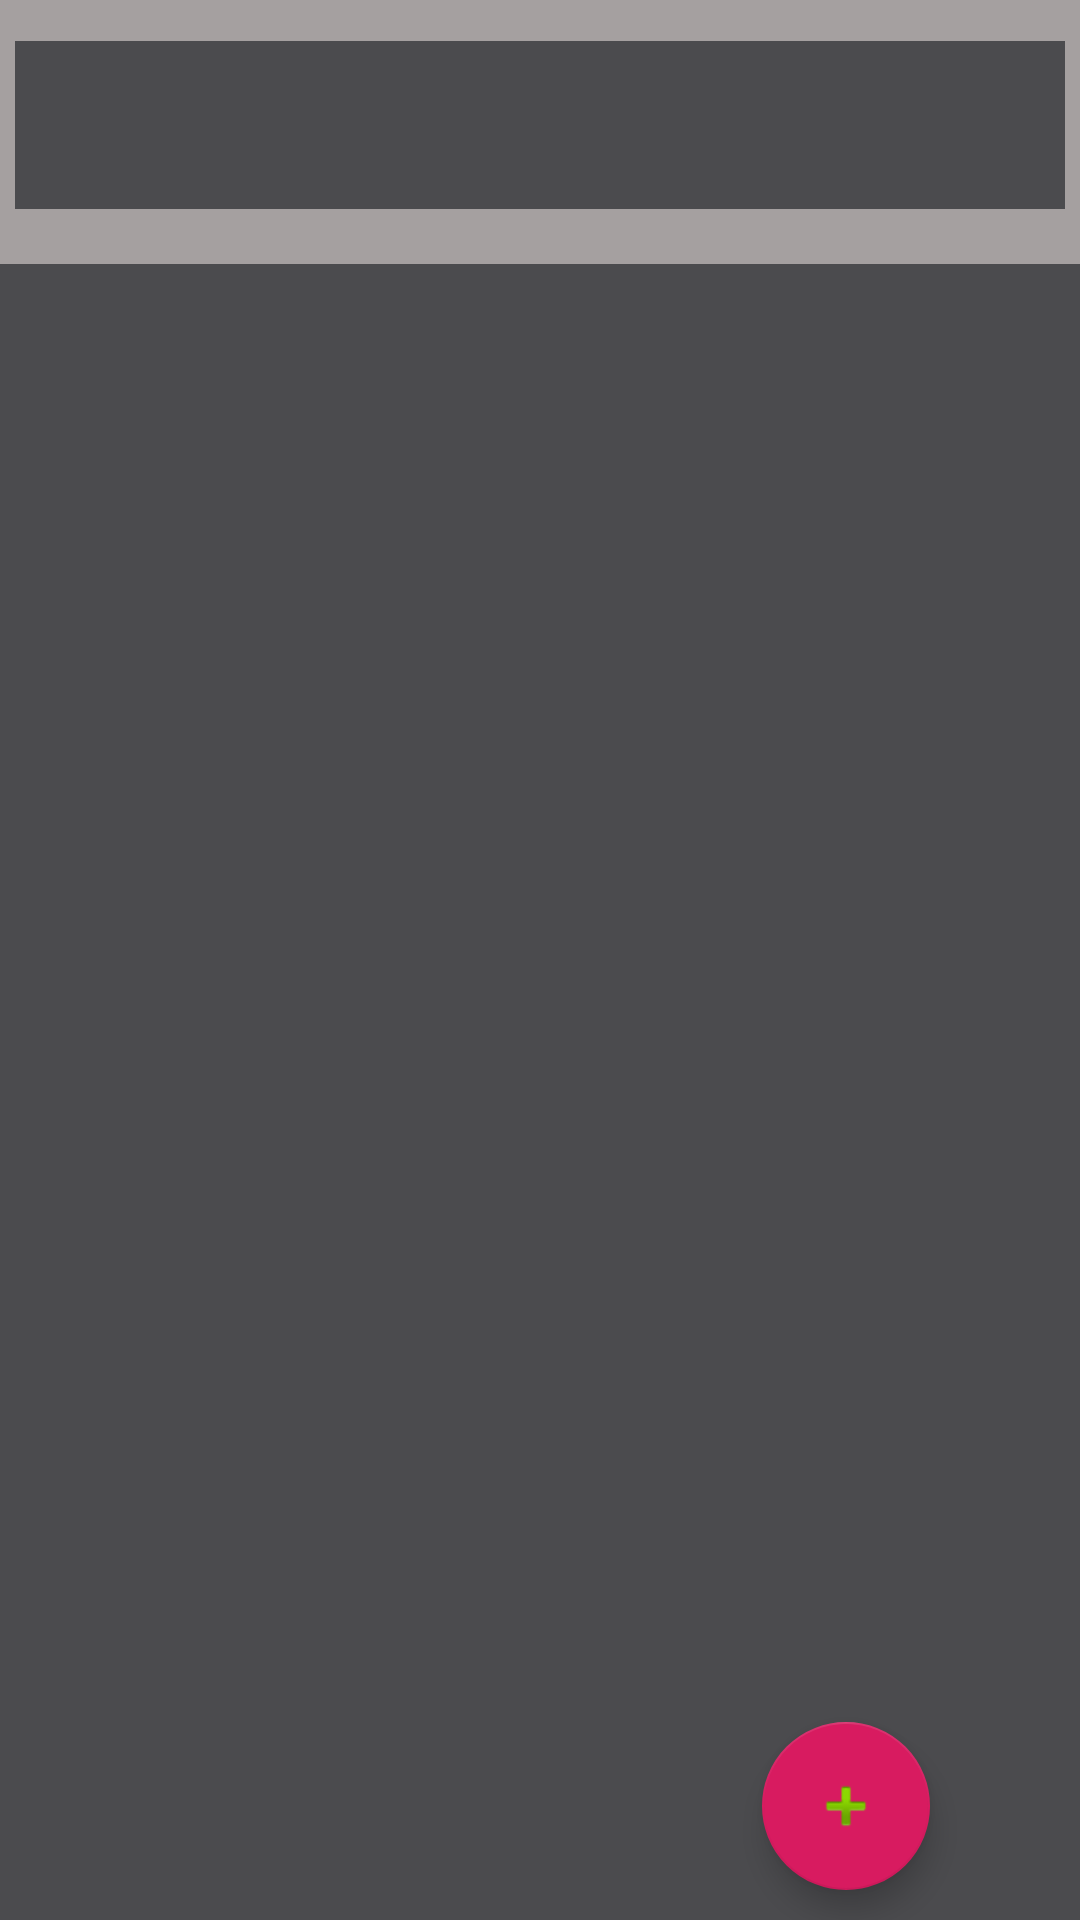

Named icons in this screenshot (1080*1920) and their centers, (x,y):
add: (846,1806)
